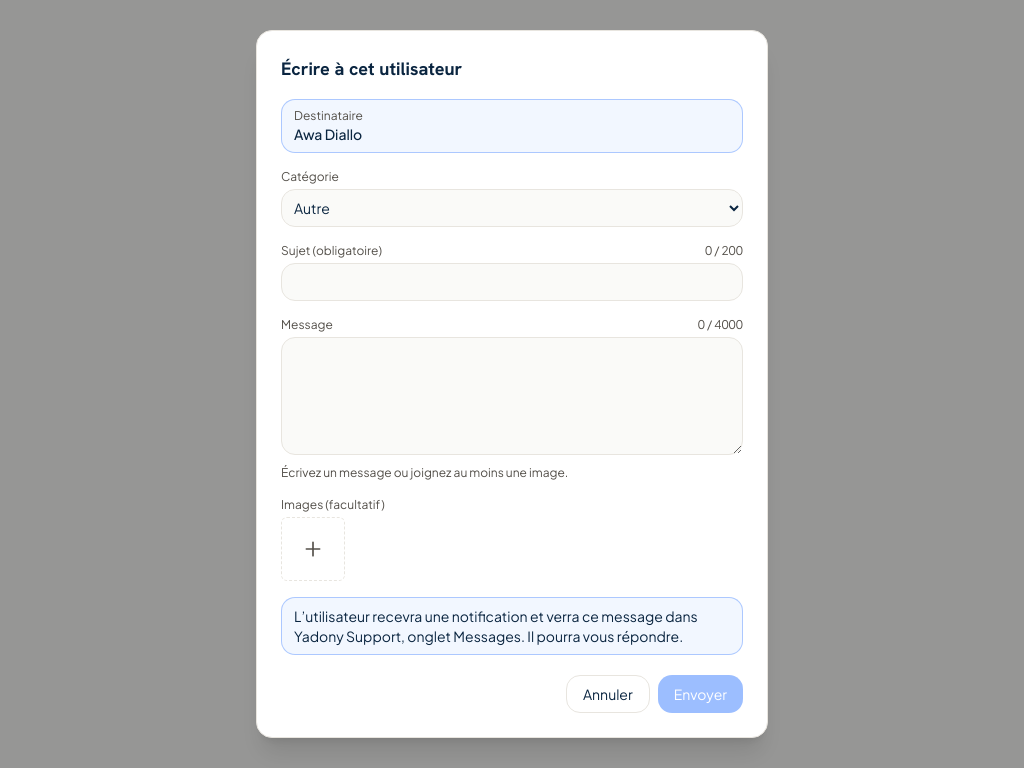
it: StartSupportConversationDialog › 404 user-not-found : message du back
Type "Votre colis" into the field with test id "start-subject" at (512, 282), box [281,263,743,301]
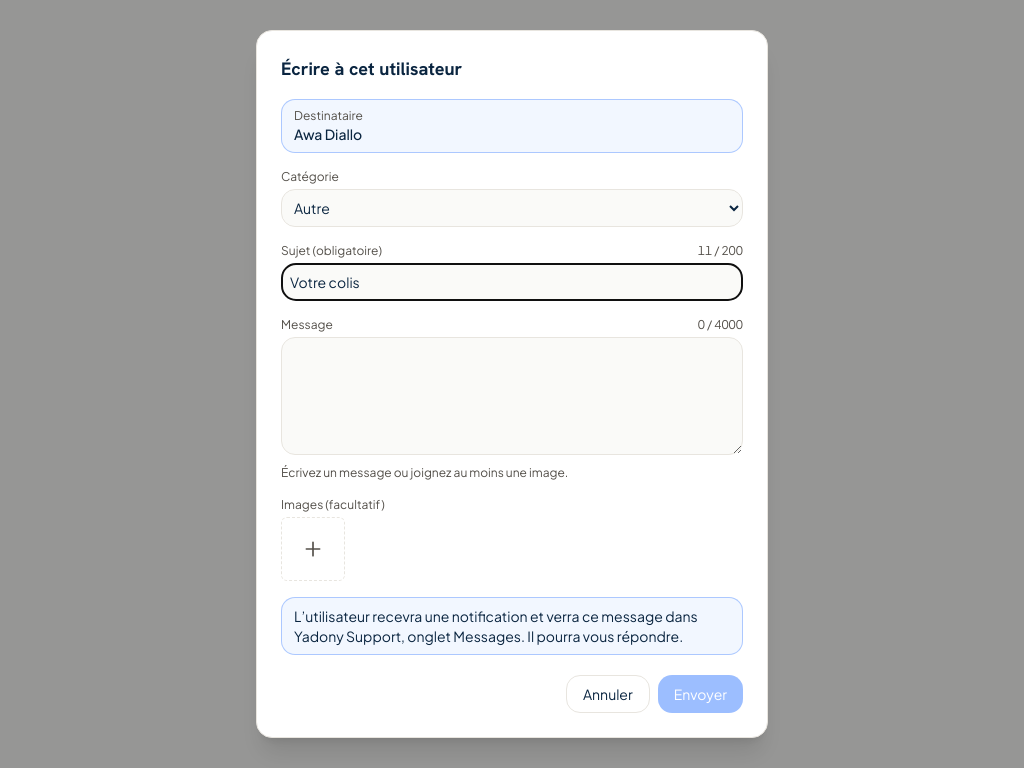
Type "Bonjour Awa" into the text box with test id "start-message" at (512, 396), box [281,337,743,455]
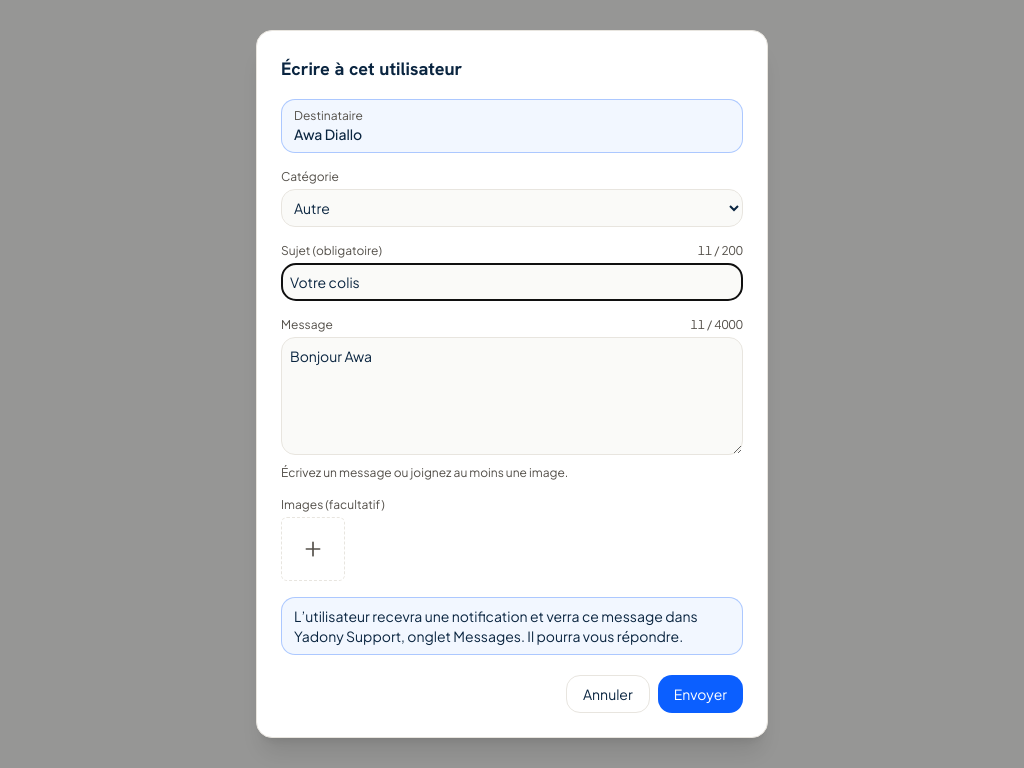
Click the button with test id "start-submit" at (700, 694), box [658,675,743,713]
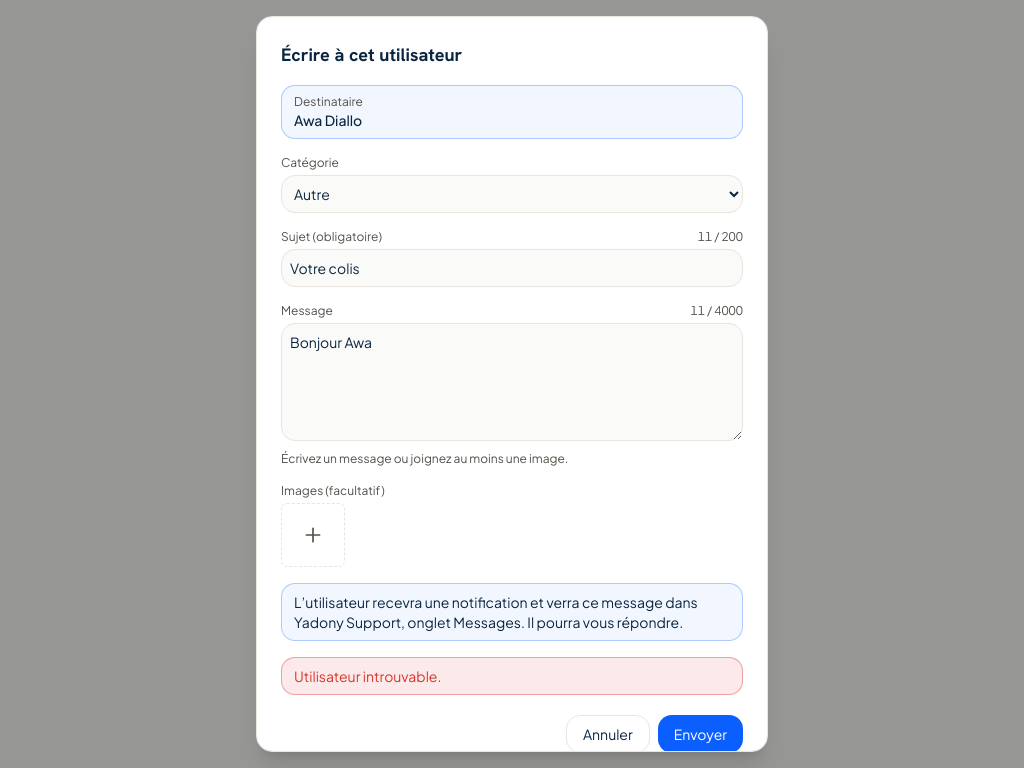
Now the message with test id "start-error" reads "Utilisateur introuvable.", box [294,667,442,685]
